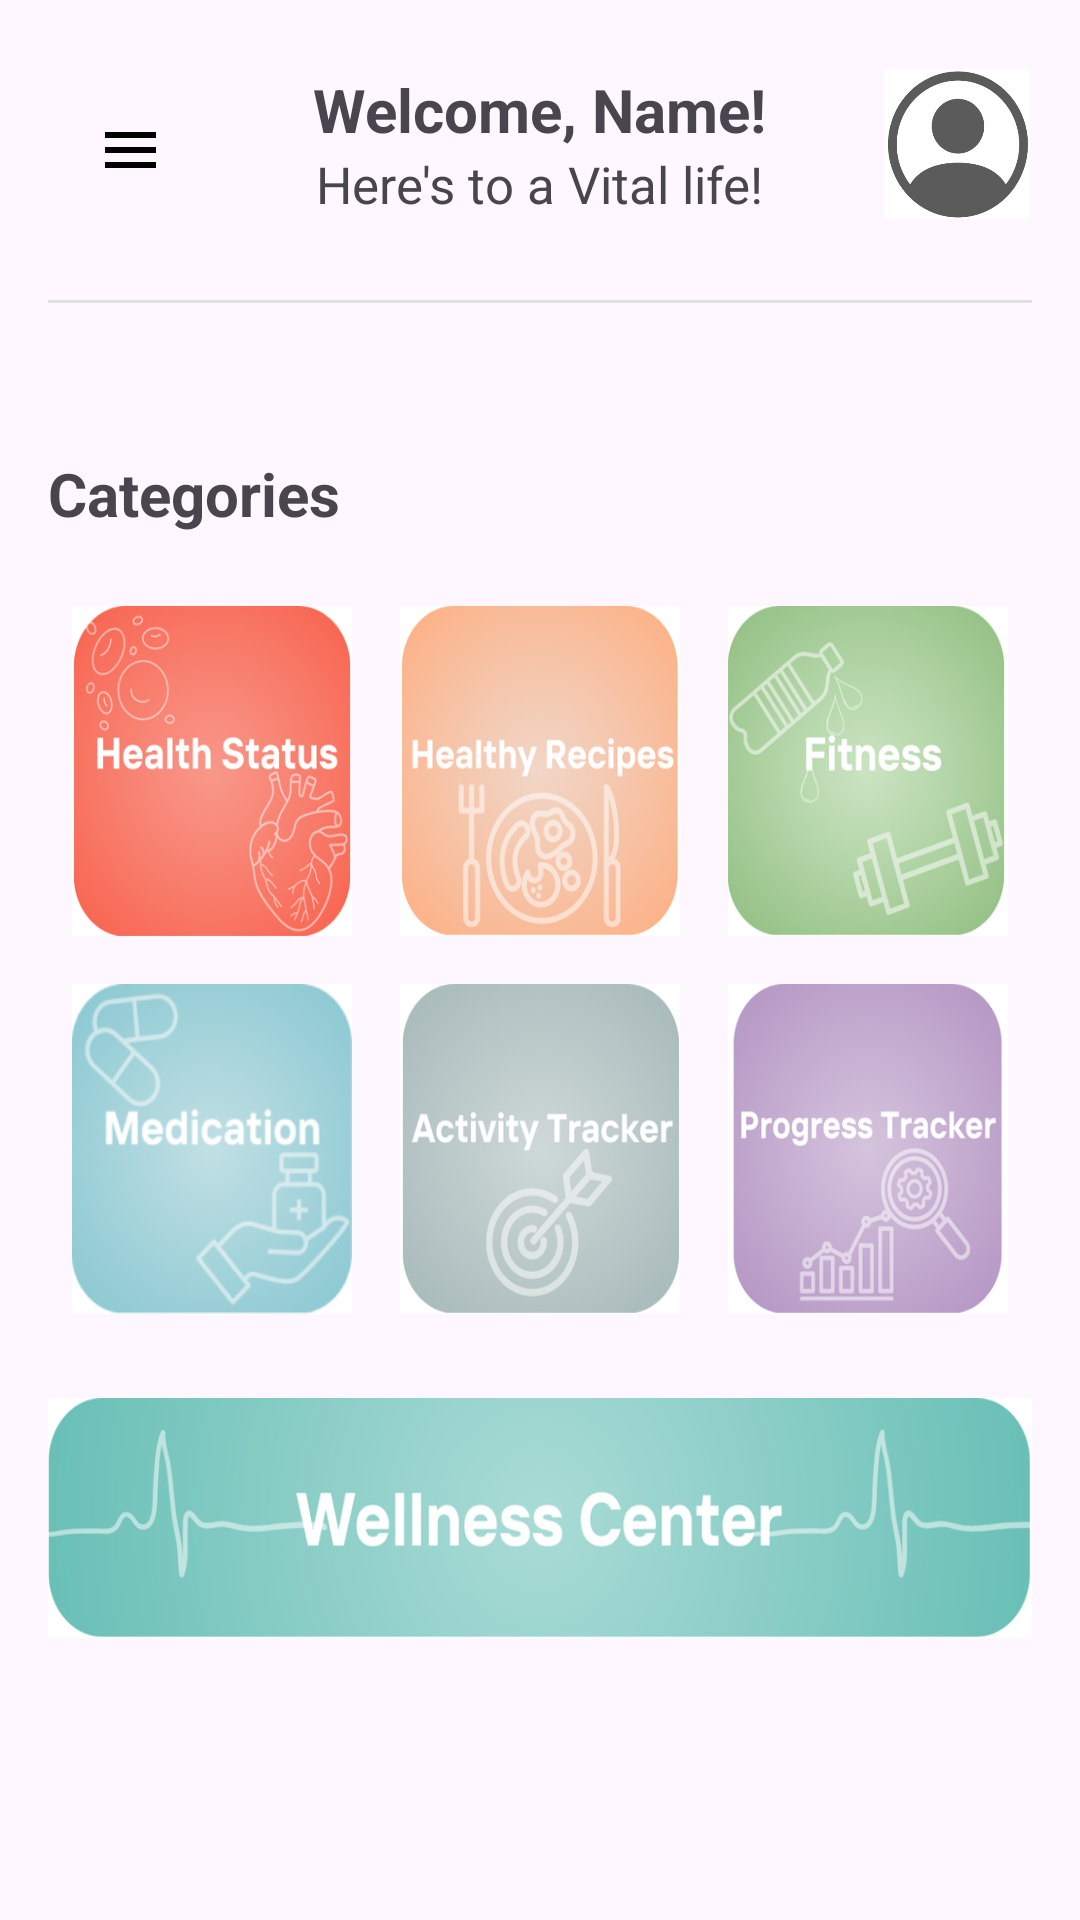

Screen size 1080*1920. Icon name, then its box in pixels as {"left": x1, "top": y1, "right": x2, "bottom": y2}:
menu: {"left": 105, "top": 132, "right": 156, "bottom": 168}
user: {"left": 888, "top": 71, "right": 1028, "bottom": 218}
